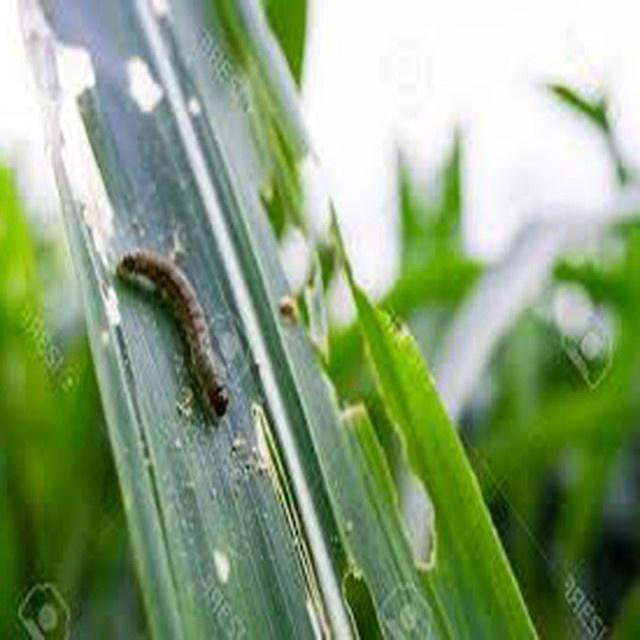Plaga: (125, 255, 235, 415)
